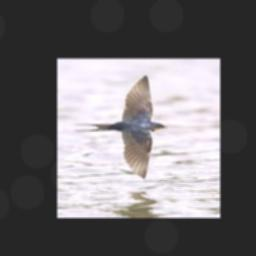Swallow: (73, 75, 167, 179)
